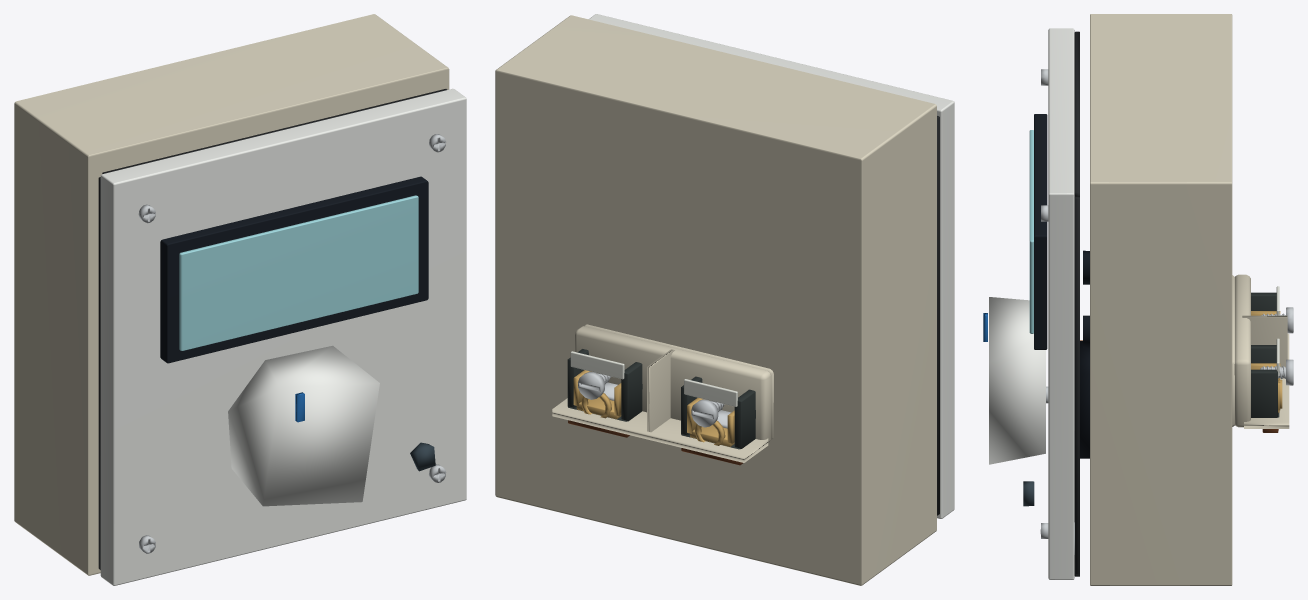
File: thermostat_default.low.glb
3 renders of one model, left to right at view 1: azimuth 30°, elevation 25°; view 2: azimuth 150°, elevation 25°; view 3: azimuth 270°, elevation 25°, orthographic. The views are drawn at different scales.
Parts seen in each view (by area): view 1: part:cover, part:body, part:body.001, part:actuator, detail:enclosure-gasket-and-fixings · Detail rubber gasket, detail:enclosure-gasket-and-fixings · Detail zinc plated fix; view 2: part:body, part:terminals · Original 5a609f27, part:cover, detail:terminal-clamp:OUT · Detail moulded engineering polym, detail:terminal-clamp:COM · Detail moulded engineering polym, detail:enclosure-gasket-and-fixings · Detail rubber gasket, detail:terminal-clamp:OUT · Detail machined brass, detail:terminal-clamp:COM · Detail machined brass, Moulded terminal legend pad.001, Moulded terminal legend pad, detail:terminal-clamp:COM · Detail zinc plated fixing, detail:terminal-clamp:OUT · Detail zinc plated fixing; view 3: part:body, part:cover, part:actuator, part:terminals · Original 5a609f27, part:body.001, detail:enclosure-gasket-and-fixings · Detail rubber gasket, detail:terminal-clamp:OUT · Detail moulded engineering polym, part:contacts, detail:terminal-clamp:COM · Detail moulded engineering polym, part:body.003 · Original 3ff2d46d, detail:enclosure-gasket-and-fixings · Detail zinc plated fix.
Part boxes in pixels (x1,y1,x2,y2): part:cover: (100, 88, 466, 585); part:body: (14, 14, 449, 575); part:body.001: (160, 176, 428, 363); part:actuator: (228, 345, 379, 506); detail:enclosure-gasket-and-fixings · Detail rubber gasket: (98, 89, 447, 569); detail:enclosure-gasket-and-fixings · Detail zinc plated fix: (138, 134, 446, 553); part:body: (495, 15, 936, 585); part:terminals · Original 5a609f27: (552, 324, 773, 462); part:cover: (589, 14, 954, 518); detail:terminal-clamp:OUT · Detail moulded engineering polym: (567, 349, 642, 421); detail:terminal-clamp:COM · Detail moulded engineering polym: (681, 376, 755, 449); detail:enclosure-gasket-and-fixings · Detail rubber gasket: (937, 116, 939, 515); detail:terminal-clamp:OUT · Detail machined brass: (573, 370, 621, 419); detail:terminal-clamp:COM · Detail machined brass: (687, 397, 734, 446); Moulded terminal legend pad.001: (570, 351, 624, 379); Moulded terminal legend pad: (684, 379, 737, 406); detail:terminal-clamp:COM · Detail zinc plated fixing: (691, 399, 731, 428); detail:terminal-clamp:OUT · Detail zinc plated fixing: (578, 371, 617, 400); part:body: (1090, 14, 1232, 585); part:cover: (1048, 28, 1074, 579); part:actuator: (983, 297, 1045, 464); part:terminals · Original 5a609f27: (1232, 274, 1289, 428); part:body.001: (1029, 114, 1047, 349); detail:enclosure-gasket-and-fixings · Detail rubber gasket: (1074, 31, 1079, 576); detail:terminal-clamp:OUT · Detail moulded engineering polym: (1251, 345, 1279, 417); part:contacts: (1074, 341, 1089, 458); detail:terminal-clamp:COM · Detail moulded engineering polym: (1251, 292, 1276, 310); part:body.003 · Original 3ff2d46d: (1083, 250, 1089, 348); detail:enclosure-gasket-and-fixings · Detail zinc plated fix: (1040, 69, 1048, 538).
Bounding box in the file's own units: 0.7954 × 0.8845 × 0.616.
